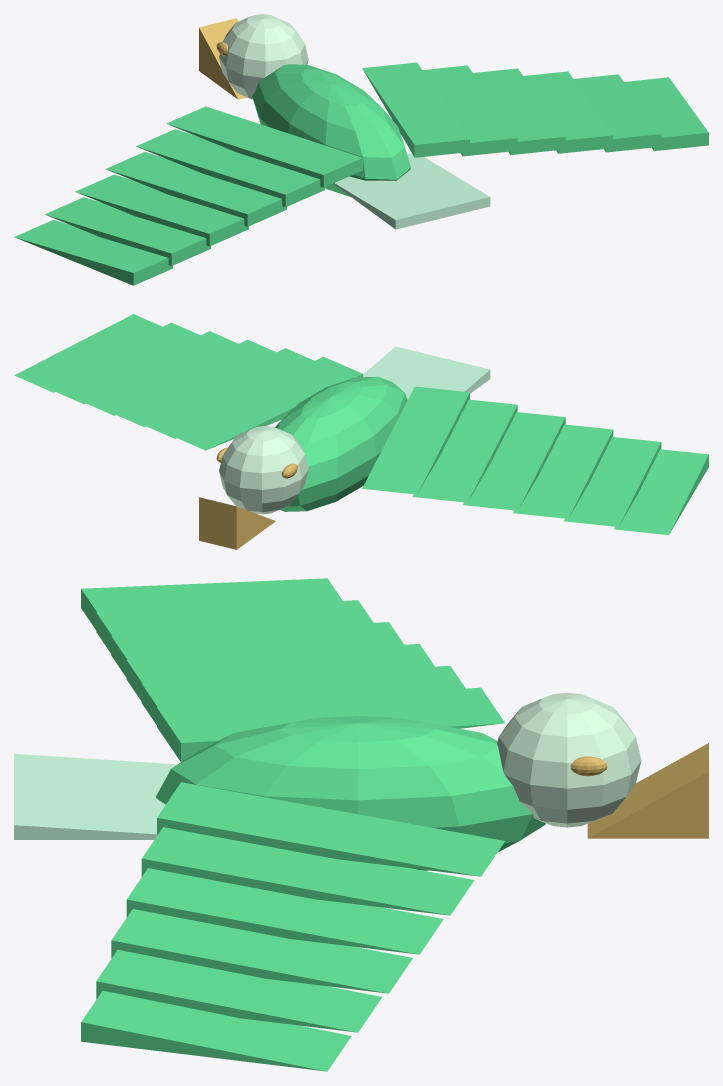
File: Hawk.obj
The picture shows the model from 3 angles, top to bottom: view 1: azimuth 30°, elevation 25°; view 2: azimuth 150°, elevation 25°; view 3: azimuth 270°, elevation 25°; orthographic projection. The views are drawn at different scales.
Parts seen in each view (by area): view 1: Hawk; view 2: Hawk; view 3: Hawk.
Boxes of the visible parts, x1,y1,x2,y2 form: Hawk: (14, 14, 708, 285); Hawk: (14, 314, 708, 549); Hawk: (14, 578, 708, 1071).
Bounding box in the file's own units: 8.65 × 1.4 × 5.15.
